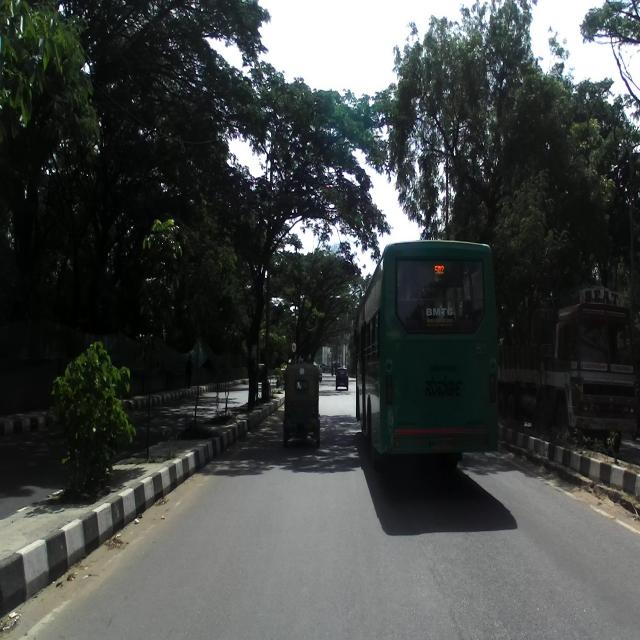autorickshaw: (283, 361, 321, 450)
bus: (350, 239, 498, 482)
truck: (498, 284, 640, 454)
